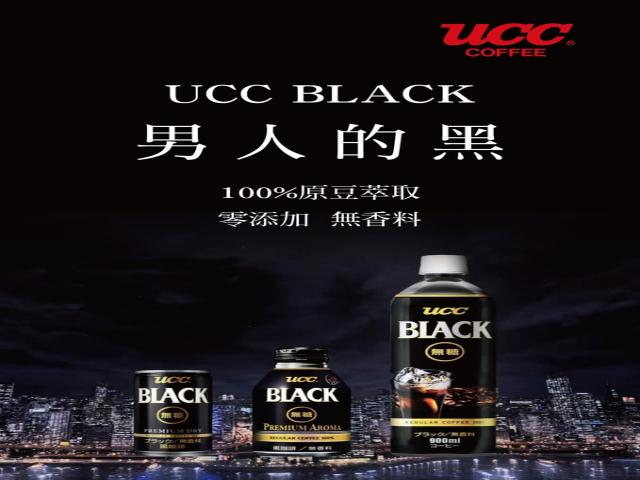Canned_drinks: (134, 370, 212, 456)
